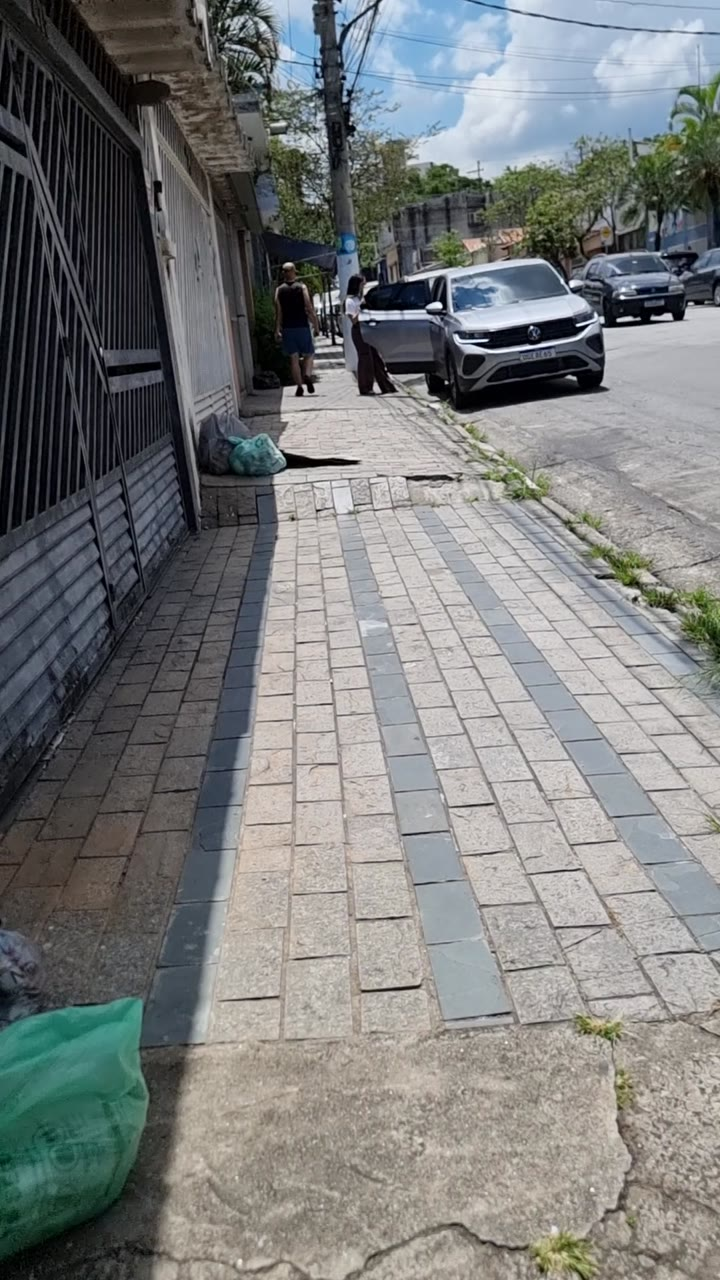obstaculo: (0, 999, 148, 1261), (194, 410, 288, 512)
